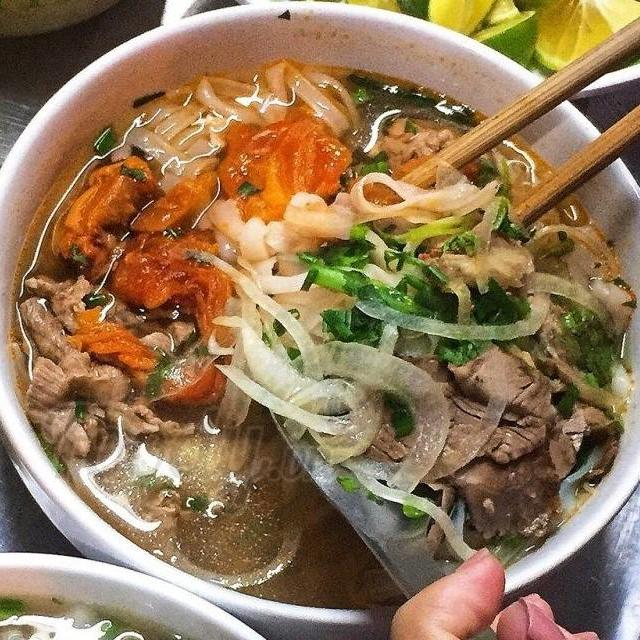banh pho: (109, 59, 365, 202)
pho bo: (0, 44, 640, 640)
thit bo: (301, 286, 571, 491), (8, 270, 202, 464), (449, 392, 624, 546), (355, 104, 488, 199)
